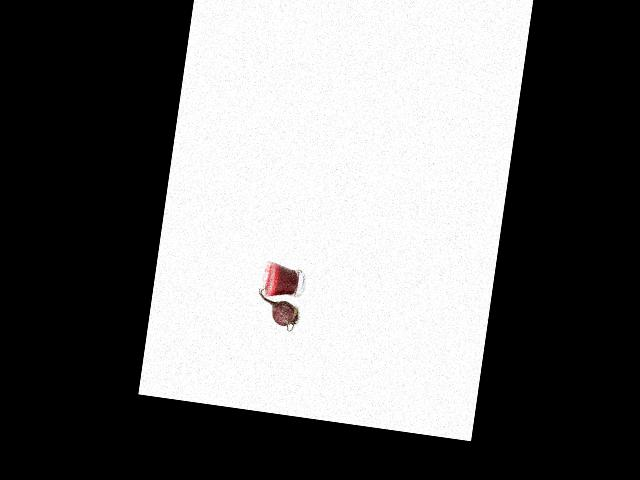beet: (254, 282, 303, 332)
